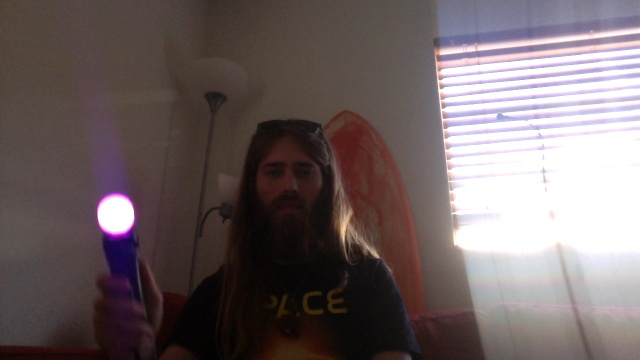wand: (98, 194, 135, 237)
